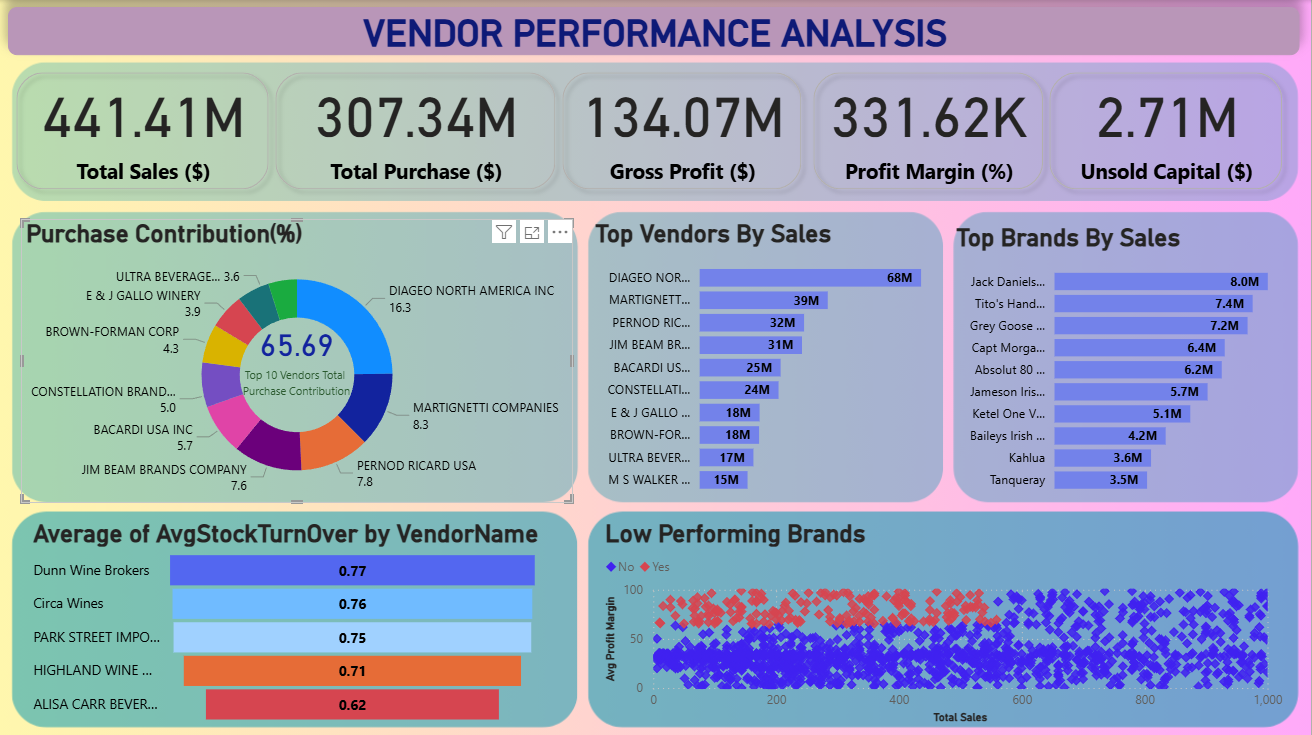

This screenshot's page, from the dashboard's own definition file:
{"tool":"powerbi","page":{"name":"Page 1","canvas":[1280,720],"ordinal":0},"visuals":[{"type":"cardVisual","title":"gii","fields":{"Data":["Sum(vendor_sales_summary.TotalSalesDollars)"]},"box":[0,53.7,281,148.3],"z":0},{"type":"cardVisual","fields":{"Data":["Sum(vendor_sales_summary.TotalPurchaseDollars)"]},"box":[252.7,53.7,307.3,148.3],"z":1000},{"type":"cardVisual","fields":{"Data":["Sum(vendor_sales_summary.GrossProfit)"]},"box":[532.7,53.7,267.3,148.3],"z":2000},{"type":"cardVisual","fields":{"Data":["Sum(vendor_sales_summary.ProfitMargin)"]},"box":[777.6,53.7,258.5,148.3],"z":3000},{"type":"cardVisual","fields":{"Data":["Sum(vendor_sales_summary.UnsoldCapital)"]},"box":[1007.8,53.7,261.5,148.3],"z":4000},{"type":"donutChart","title":"Purchase Contribution(%)","fields":{"Category":["PurchaseContribution.VendorName"],"Y":["Sum(PurchaseContribution.PurchaseContribution(%))"]},"box":[21.5,213.7,538.5,277.1],"z":5000},{"type":"funnel","fields":{"Category":["LowTurnOverVendor.VendorName"],"Y":["Avg(LowTurnOverVendor.AvgStockTurnOver)"]},"box":[28.3,506.3,504.4,203.9],"z":6000},{"type":"barChart","title":"Top Vendors By Sales","fields":{"Category":["vendor_sales_summary.VendorName"],"Y":["Sum(vendor_sales_summary.TotalSalesDollars)"]},"box":[576.8,213.5,376.4,277.2],"z":7000},{"type":"barChart","title":"Top Brands By Sales","fields":{"Y":["Sum(vendor_sales_summary.TotalSalesDollars)"],"Category":["vendor_sales_summary.Description"]},"box":[928.9,217.5,351.1,273.2],"z":8000},{"type":"scatterChart","title":"Low Performing Brands","fields":{"Category":["BrandPerformance.Description"],"X":["Sum(BrandPerformance.Total Sales)"],"Y":["Sum(BrandPerformance.AvgProfitMarin)"],"Series":["BrandPerformance.TargetBrand"]},"box":[586.3,506.3,671.2,203.9],"z":9000},{"type":"textbox","title":"VENDOR PERFORMANCE ANALYSIS","box":[8.8,6.8,1260.5,46.8],"z":10000},{"type":"card","fields":{"Values":["Sum(PurchaseContribution.PurchaseContribution(%))"]},"box":[228.3,274.1,123.9,135.6],"z":10001}]}

Visuals, with their boxes in screenshot pixels (x1, y1, x2, y2), scaled from the page's 1280x720 canvas onto the 1312x735 screenshot:
"gii" cardVisual: pyautogui.locateOnScreen(0, 55, 288, 206)
cardVisual - Sum(vendor_sales_summary.TotalPurchaseDollars): pyautogui.locateOnScreen(259, 55, 574, 206)
cardVisual - Sum(vendor_sales_summary.GrossProfit): pyautogui.locateOnScreen(546, 55, 820, 206)
cardVisual - Sum(vendor_sales_summary.ProfitMargin): pyautogui.locateOnScreen(797, 55, 1062, 206)
cardVisual - Sum(vendor_sales_summary.UnsoldCapital): pyautogui.locateOnScreen(1033, 55, 1301, 206)
"Purchase Contribution(%)" donutChart: pyautogui.locateOnScreen(22, 218, 574, 501)
funnel - LowTurnOverVendor.VendorName x Avg(LowTurnOverVendor.AvgStockTurnOver): pyautogui.locateOnScreen(29, 517, 546, 725)
"Top Vendors By Sales" barChart: pyautogui.locateOnScreen(591, 218, 977, 501)
"Top Brands By Sales" barChart: pyautogui.locateOnScreen(952, 222, 1311, 501)
"Low Performing Brands" scatterChart: pyautogui.locateOnScreen(601, 517, 1289, 725)
"VENDOR PERFORMANCE ANALYSIS" textbox: pyautogui.locateOnScreen(9, 7, 1301, 55)
card - Sum(PurchaseContribution.PurchaseContribution(%)): pyautogui.locateOnScreen(234, 280, 361, 418)
